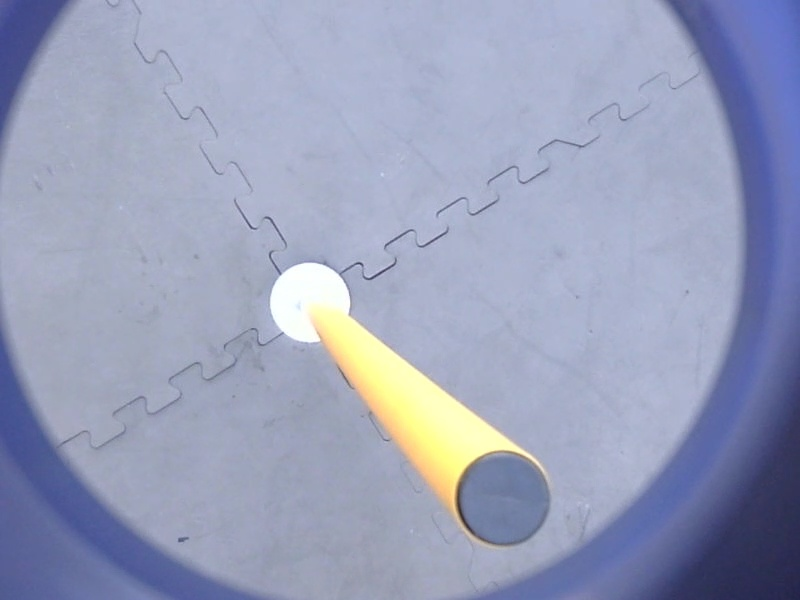tip: (448, 443, 557, 554)
